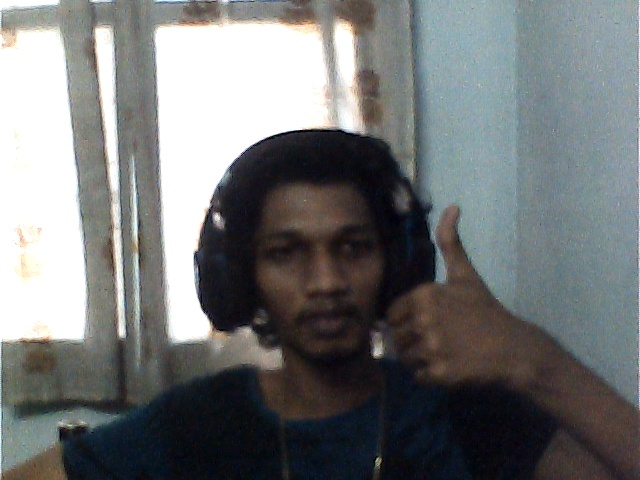ThumbsUp: (388, 205, 527, 388)
